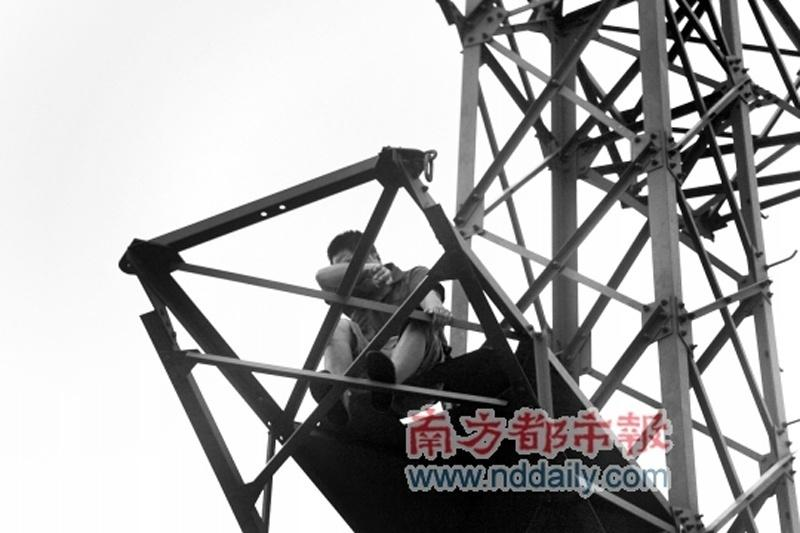power_tower: (101, 4, 797, 528)
